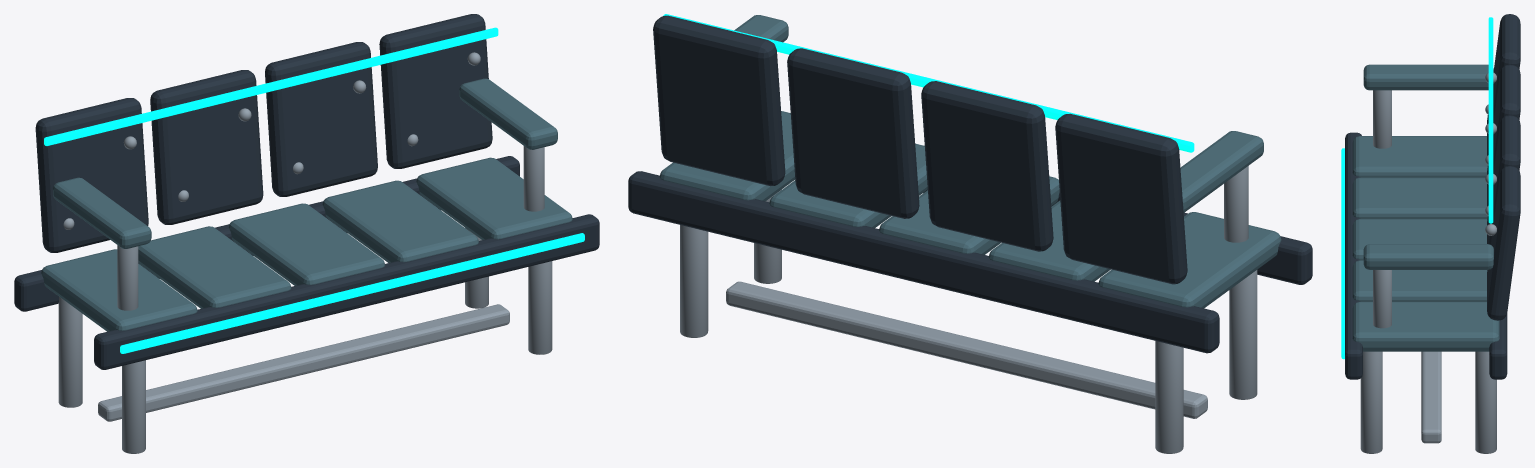
The model's file is neom_bench_prop.glb.
3 renders of one model, left to right at view 1: azimuth 30°, elevation 25°; view 2: azimuth 150°, elevation 25°; view 3: azimuth 270°, elevation 25°, orthographic. The views are drawn at different scales.
Parts seen in each view (by area): view 1: Bench_SeatFrameFront, Bench_BackPanel_2, Bench_BackPanel_3, Bench_BackPanel_4, Bench_BackPanel_1, Bench_FloorRail, Bench_SeatSlat_4, Bench_SeatSlat_3, Bench_SeatSlat_2, Bench_SeatSlat_5, Bench_SeatSlat_1, Bench_NeonFront (+10 smaller); view 2: Bench_SeatFrameRear, Bench_BackPanel_2, Bench_BackPanel_3, Bench_BackPanel_1, Bench_BackPanel_4, Bench_FloorRail, Bench_SeatSlat_1, Bench_LeftArmPad, Bench_LeftFrontLeg, Bench_LeftRearLeg, Bench_RightRearLeg, Bench_SeatSlat_5 (+8 smaller); view 3: Bench_SeatSlat_5, Bench_SeatSlat_2, Bench_SeatSlat_1, Bench_SeatSlat_4, Bench_SeatSlat_3, Bench_BackPanel_4, Bench_RightArmPad, Bench_LeftArmPad, Bench_SeatFrameFront, Bench_RightFrontLeg, Bench_RightRearLeg, Bench_FloorRail (+8 smaller).
Boxes of the visible parts, x1,y1,x2,y2 form: Bench_SeatFrameFront: (94, 214, 599, 369); Bench_BackPanel_2: (150, 70, 263, 224); Bench_BackPanel_3: (265, 42, 377, 196); Bench_BackPanel_4: (379, 14, 492, 168); Bench_BackPanel_1: (35, 98, 148, 252); Bench_FloorRail: (98, 304, 509, 421); Bench_SeatSlat_4: (322, 180, 478, 262); Bench_SeatSlat_3: (228, 203, 385, 285); Bench_SeatSlat_2: (138, 226, 291, 308); Bench_SeatSlat_5: (416, 157, 572, 239); Bench_SeatSlat_1: (41, 249, 197, 331); Bench_NeonFront: (120, 233, 584, 353); Bench_SeatFrameRear: (628, 171, 1219, 353); Bench_BackPanel_2: (921, 81, 1053, 251); Bench_BackPanel_3: (787, 48, 919, 218); Bench_BackPanel_1: (1055, 113, 1187, 284); Bench_BackPanel_4: (653, 15, 785, 186); Bench_FloorRail: (726, 281, 1207, 418); Bench_SeatSlat_1: (1098, 212, 1281, 308); Bench_LeftArmPad: (1180, 131, 1263, 212); Bench_LeftFrontLeg: (1229, 270, 1257, 399); Bench_LeftRearLeg: (1155, 341, 1183, 453); Bench_RightRearLeg: (680, 225, 708, 337); Bench_SeatSlat_5: (659, 111, 795, 201); Bench_SeatSlat_5: (1352, 302, 1499, 351); Bench_SeatSlat_2: (1352, 177, 1487, 218); Bench_SeatSlat_1: (1352, 136, 1487, 177); Bench_SeatSlat_4: (1352, 260, 1487, 301); Bench_SeatSlat_3: (1352, 219, 1487, 260); Bench_BackPanel_4: (1487, 166, 1520, 320); Bench_RightArmPad: (1363, 244, 1493, 269); Bench_LeftArmPad: (1363, 64, 1493, 90); Bench_SeatFrameFront: (1345, 132, 1362, 379); Bench_RightFrontLeg: (1360, 351, 1382, 453); Bench_RightRearLeg: (1475, 351, 1496, 453); Bench_FloorRail: (1421, 351, 1441, 443).
Size of the model in its own units: 1.92 by 1.01 by 0.6576.
